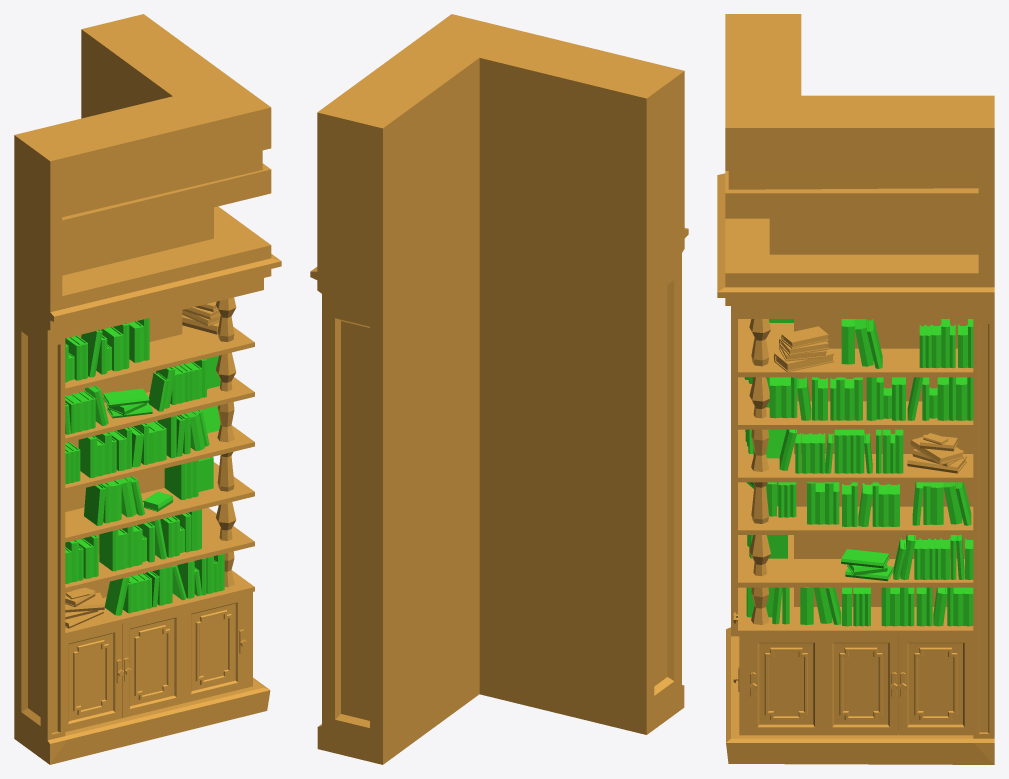
Rendered from SM_Bookcase_Tall_Modular_Cabinet_Filled_Corner_Outer.fbx.
The picture shows the model from 3 angles, left to right: view 1: azimuth 30°, elevation 25°; view 2: azimuth 150°, elevation 25°; view 3: azimuth 270°, elevation 25°; orthographic projection. The views are drawn at different scales.
Visible parts, largest first — view 1: library-tall-modular-cabinet-filled-corner-outer-base, library-tall-modular-cabinet-filled-corner-outer-door-m-a, library-tall-modular-cabinet-filled-corner-outer-door-r-a, library-tall-modular-cabinet-filled-corner-outer-door-l-a; view 2: library-tall-modular-cabinet-filled-corner-outer-base; view 3: library-tall-modular-cabinet-filled-corner-outer-base, library-tall-modular-cabinet-filled-corner-outer-door-m-b, library-tall-modular-cabinet-filled-corner-outer-door-r-b, library-tall-modular-cabinet-filled-corner-outer-door-l-b.
Part boxes in pixels (<box>): library-tall-modular-cabinet-filled-corner-outer-base: <box>14,14,281,764</box>; library-tall-modular-cabinet-filled-corner-outer-door-m-a: <box>122,609,183,717</box>; library-tall-modular-cabinet-filled-corner-outer-door-r-a: <box>184,594,246,702</box>; library-tall-modular-cabinet-filled-corner-outer-door-l-a: <box>65,624,123,731</box>; library-tall-modular-cabinet-filled-corner-outer-base: <box>310,14,688,764</box>; library-tall-modular-cabinet-filled-corner-outer-base: <box>717,14,994,764</box>; library-tall-modular-cabinet-filled-corner-outer-door-m-b: <box>823,635,898,735</box>; library-tall-modular-cabinet-filled-corner-outer-door-r-b: <box>898,635,973,735</box>; library-tall-modular-cabinet-filled-corner-outer-door-l-b: <box>749,635,823,735</box>.
Bounding box in the file's own units: 1.58 × 4 × 1.58.
